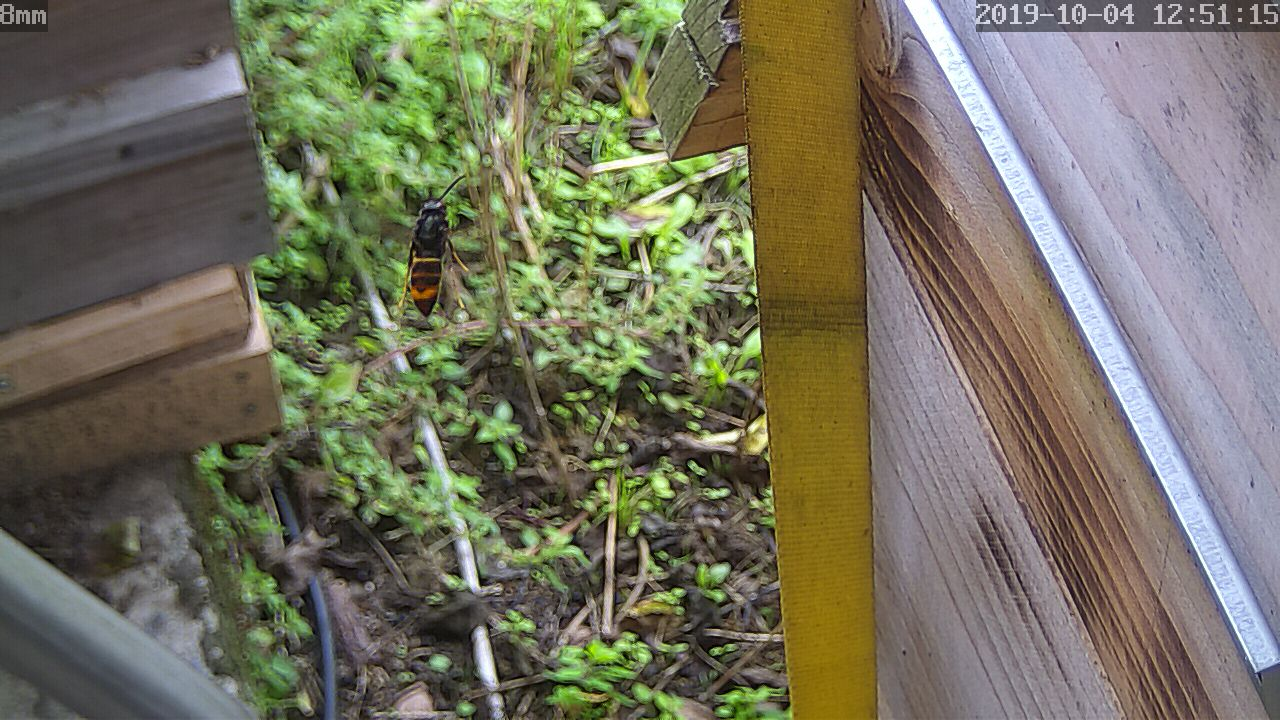hornet: (385, 187, 478, 324)
